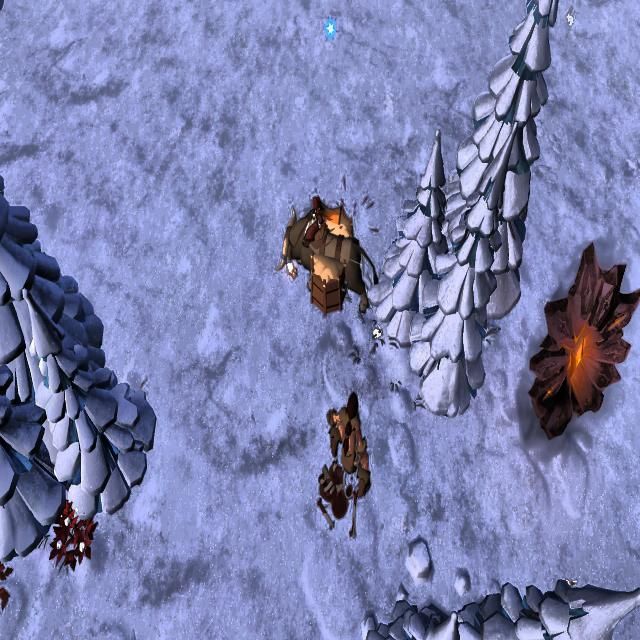fiber_t5: (50, 499, 97, 574)
